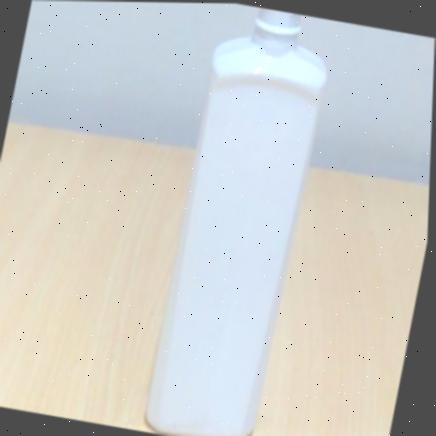bottle: (145, 8, 326, 436)
